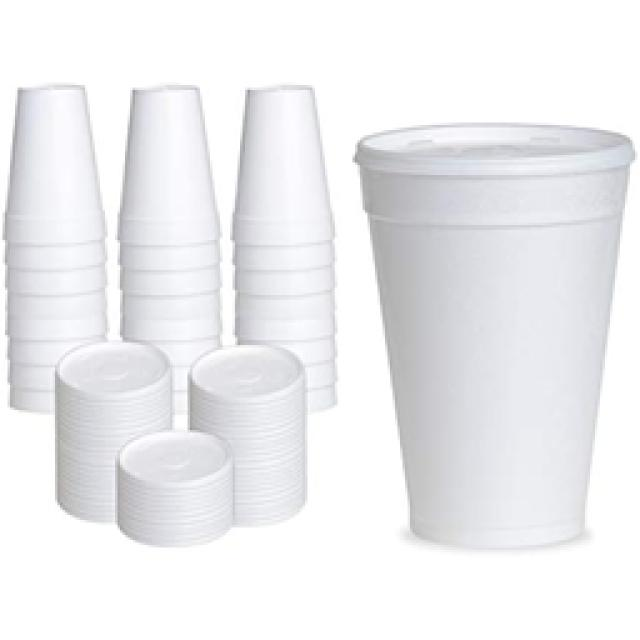styrofoam: (5, 88, 332, 542), (355, 125, 630, 545)
